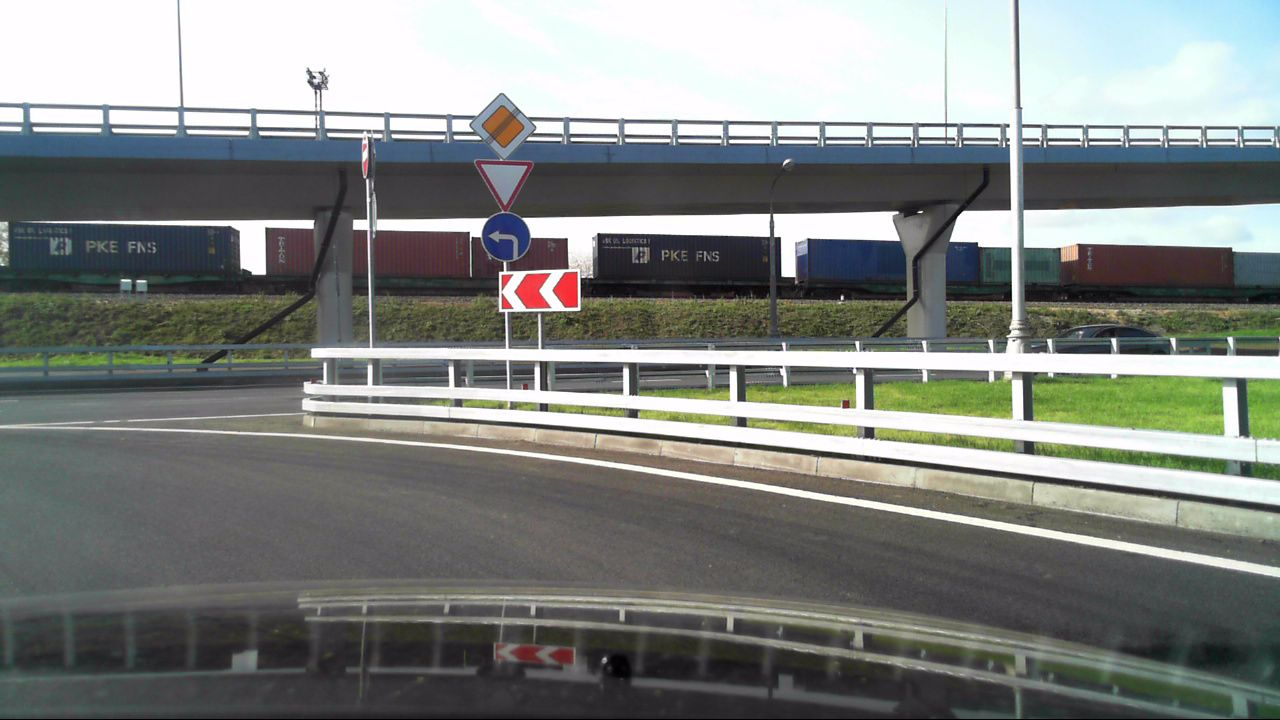main road: (469, 94, 539, 160)
